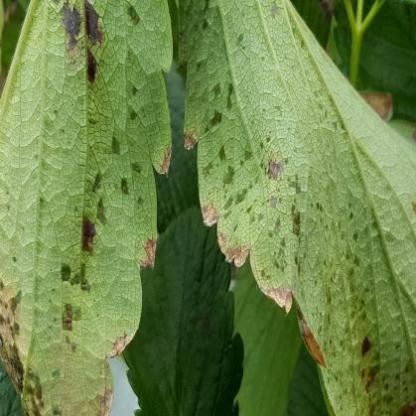Strawberry_Angular_LeafSpot: (177, 0, 416, 415), (0, 0, 174, 415)
